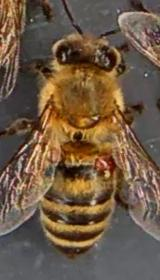varroa_mite: (90, 148, 123, 180)
